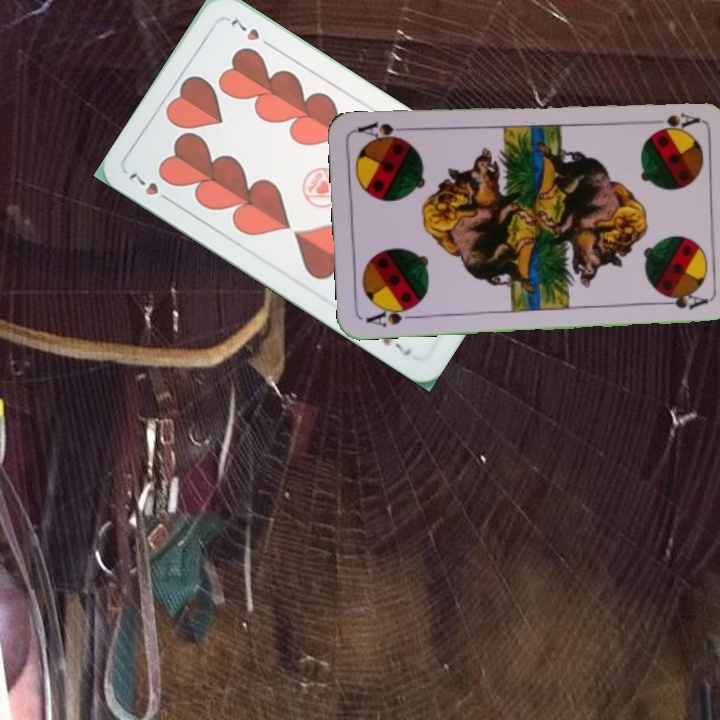H7: (125, 168, 176, 206)
SA: (361, 301, 421, 330), (642, 108, 701, 129)
